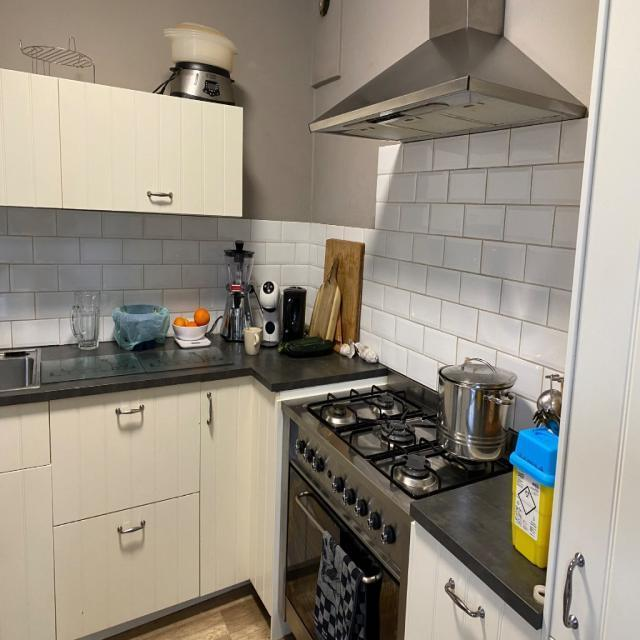cabinet_door: (570, 0, 640, 640), (60, 96, 241, 212), (56, 394, 198, 507), (53, 509, 200, 613), (203, 386, 267, 582), (410, 569, 538, 640)
handle: (558, 548, 589, 635), (441, 574, 488, 621), (111, 403, 147, 425), (113, 518, 147, 540), (204, 389, 218, 428), (145, 188, 174, 205)
